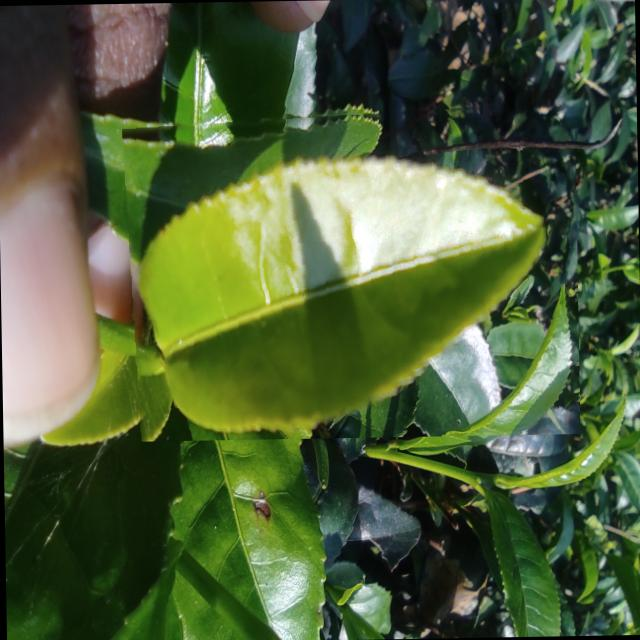Category C(4-7 days): (120, 100, 579, 442)
